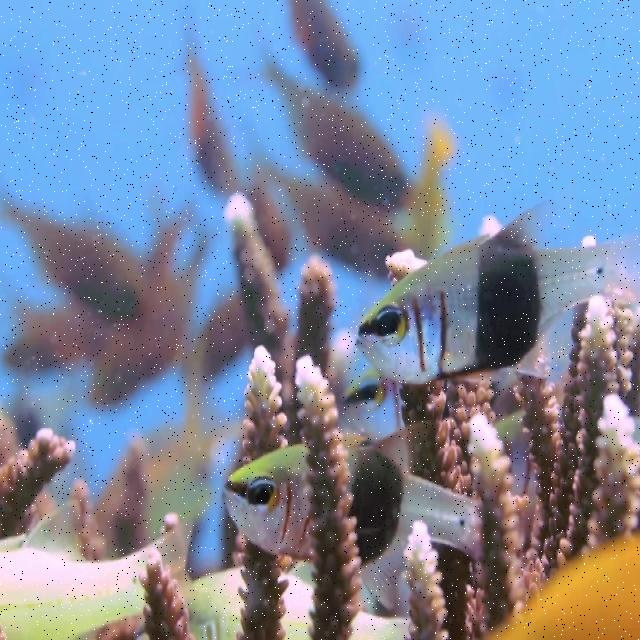fish: (357, 203, 635, 384), (221, 426, 477, 612), (4, 199, 195, 374), (0, 504, 185, 639), (263, 68, 407, 208), (90, 230, 207, 401), (205, 164, 288, 383), (260, 163, 405, 276), (7, 203, 146, 320), (187, 33, 238, 191), (292, 1, 358, 89), (341, 368, 393, 412)
reefs: (388, 248, 480, 638), (237, 342, 307, 639), (291, 352, 362, 637), (557, 294, 621, 559), (222, 192, 293, 401), (507, 365, 562, 592), (471, 416, 529, 628), (581, 397, 638, 560), (0, 428, 75, 535), (560, 298, 591, 533), (293, 259, 336, 375), (404, 524, 447, 638), (456, 375, 496, 484), (149, 550, 197, 639)
